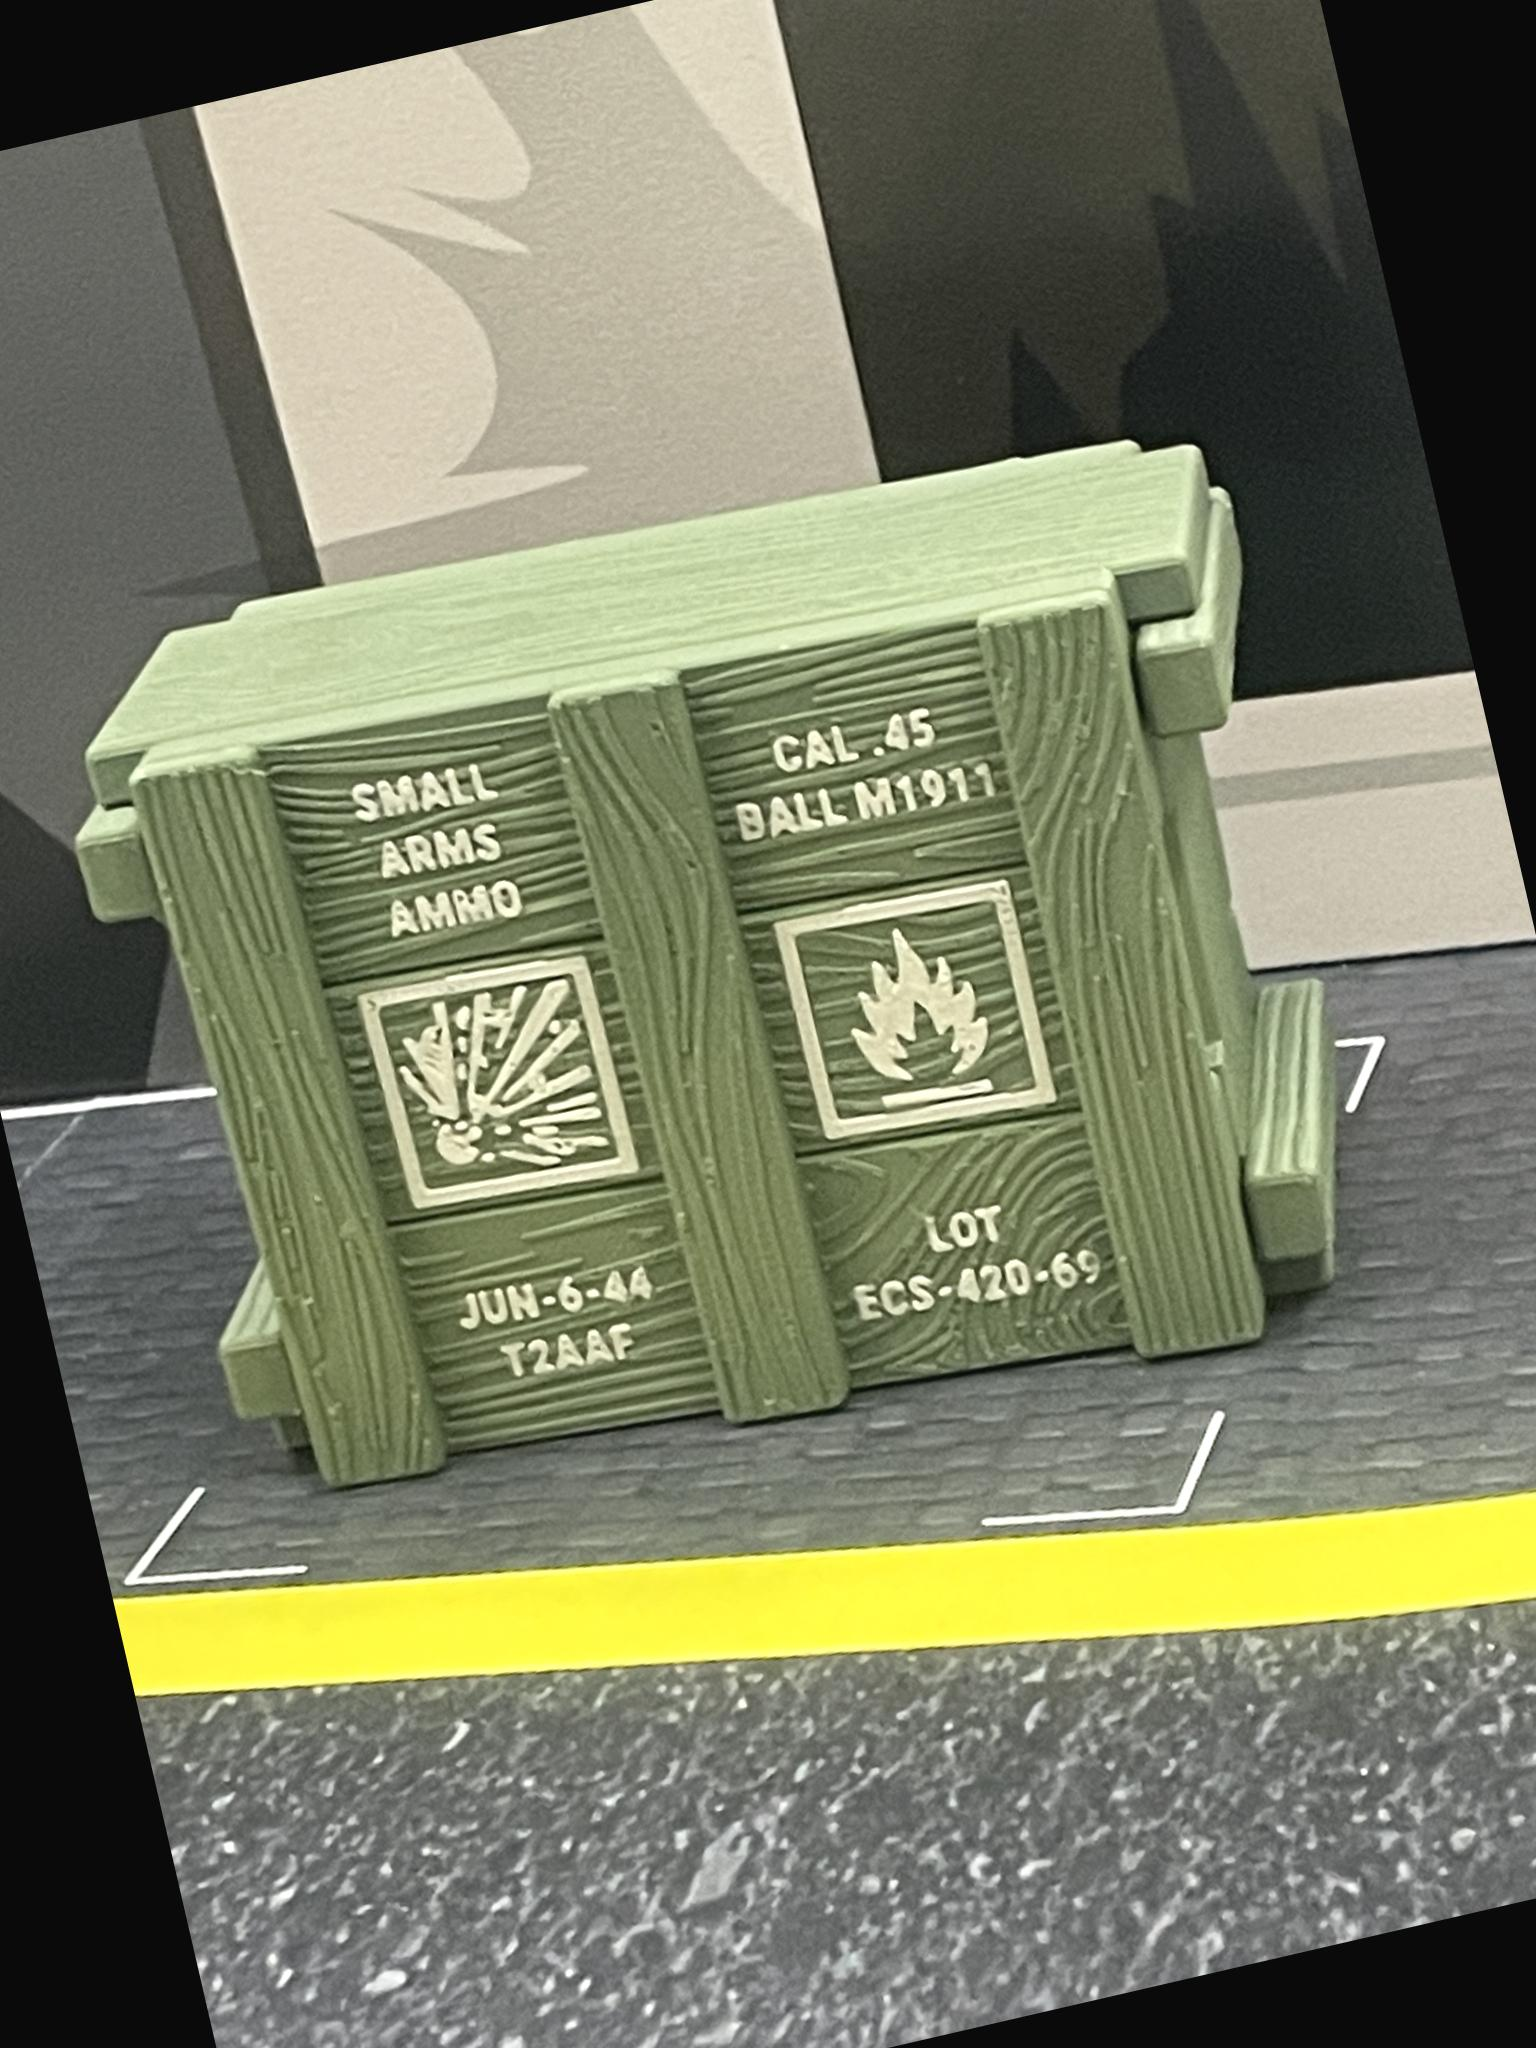Box: (23, 368, 1434, 1580)
